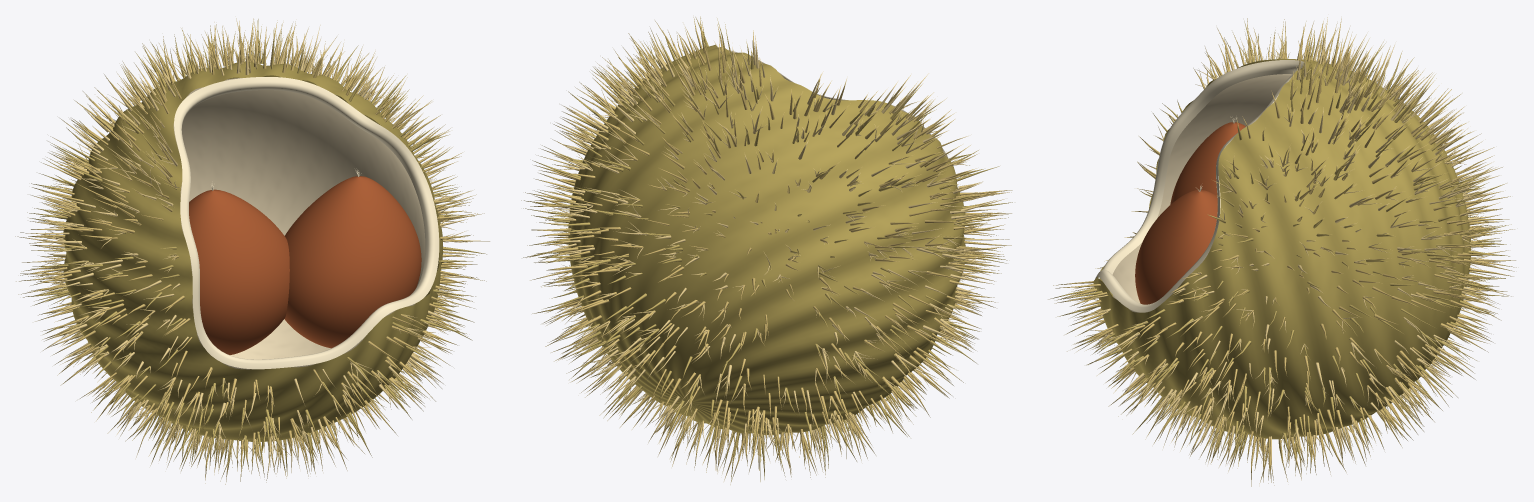
Rendered from open_chestnut_burr.glb.
The picture shows the model from 3 angles, left to right: view 1: azimuth 30°, elevation 25°; view 2: azimuth 150°, elevation 25°; view 3: azimuth 270°, elevation 25°; orthographic projection. The views are drawn at different scales.
Parts seen in each view (by area): view 1: Open_Chestnut_Burr; view 2: Open_Chestnut_Burr; view 3: Open_Chestnut_Burr.
Boxes of the visible parts, <box> form: Open_Chestnut_Burr: <box>15,18,489,484</box>; Open_Chestnut_Burr: <box>521,16,1012,484</box>; Open_Chestnut_Burr: <box>1048,17,1516,486</box>.
Bounding box in the file's own units: 2.51 × 2.5 × 2.51.
